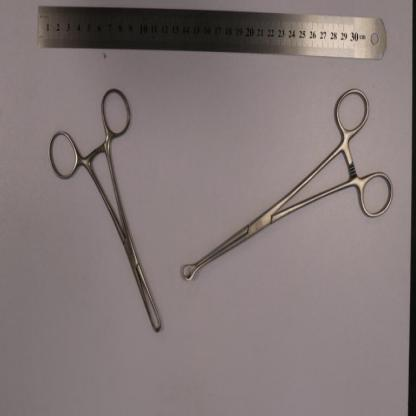8 Babcock Tissue Forceps: (182, 86, 396, 284)
Allis Tissue Forceps: (47, 86, 162, 332)
